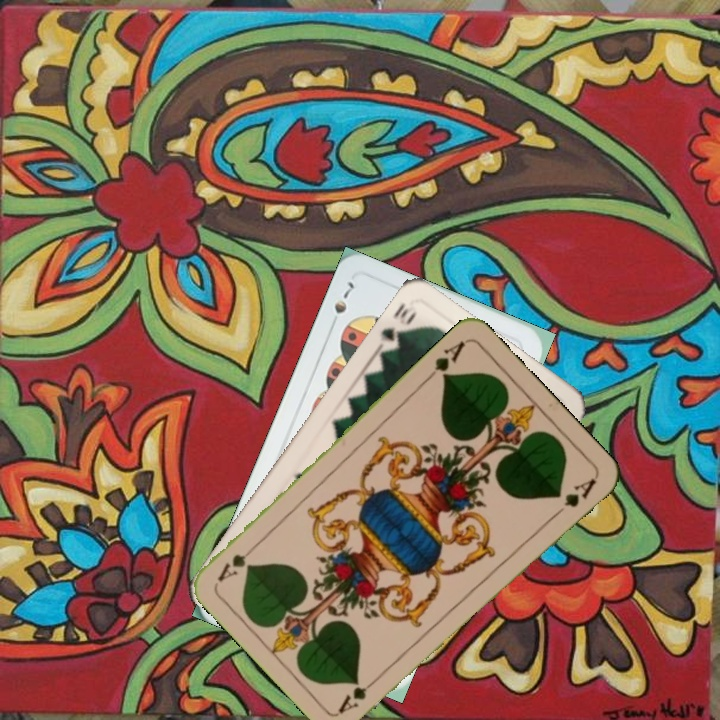G10: (375, 298, 420, 350)
GA: (335, 670, 384, 716), (422, 336, 468, 384)
S7: (326, 277, 357, 332)
